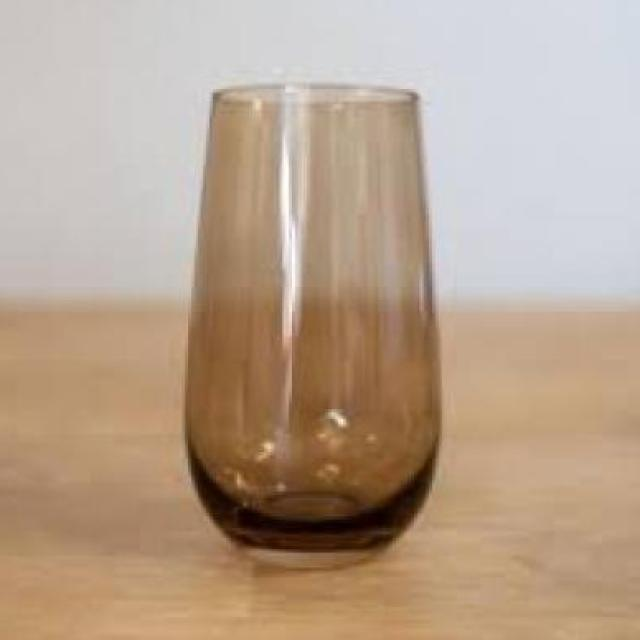kaca: (181, 84, 439, 551)
